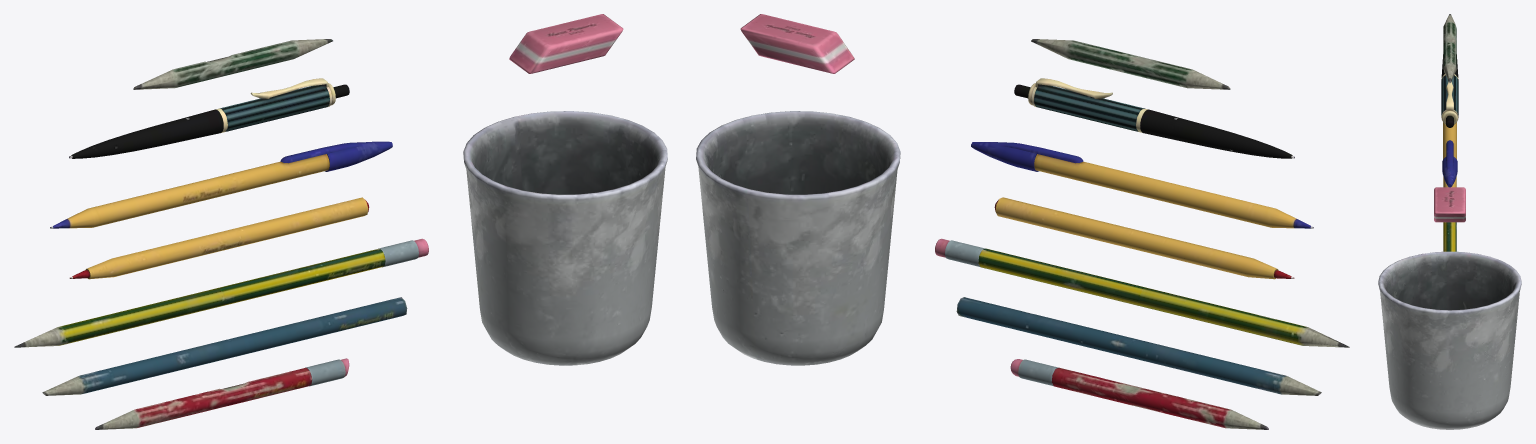
Rendered from stationery_supplies.glb.
3 renders of one model, left to right at view 1: azimuth 30°, elevation 25°; view 2: azimuth 150°, elevation 25°; view 3: azimuth 270°, elevation 25°, orthographic. The views are drawn at different scales.
Visible parts, largest first — view 1: stationery_supplies_pen_red; view 2: stationery_supplies_pen_red; view 3: stationery_supplies_pen_red.
Boxes of the visible parts, <box> form: stationery_supplies_pen_red: <box>14,14,667,429</box>; stationery_supplies_pen_red: <box>696,14,1349,429</box>; stationery_supplies_pen_red: <box>1378,14,1521,429</box>.
Size of the model in its own units: 0.3019 by 0.1644 by 0.0837.
Materials: 1 (1 with a texture image).
